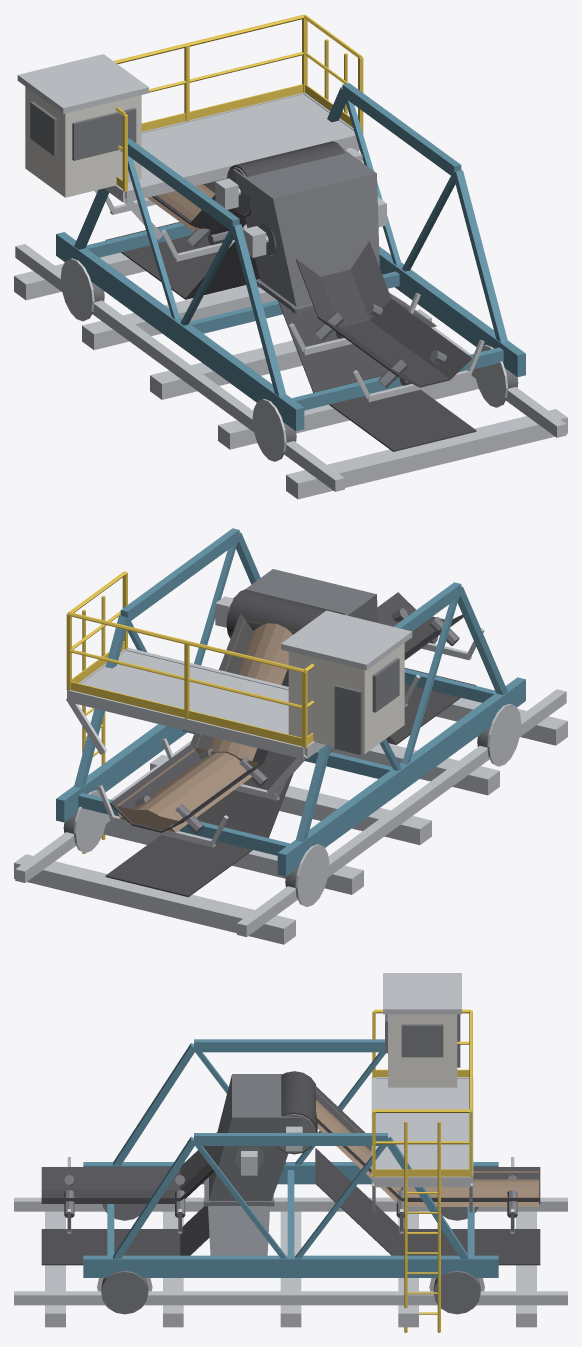
File: ore-processing-and-haulage-plant-tripper-car-f1988f04.glb
3 views of the same model, one above another, from view 1: azimuth 30°, elevation 25°; view 2: azimuth 150°, elevation 25°; view 3: azimuth 270°, elevation 25° (orthographic). The views are drawn at different scales.
Visible parts, largest first — view 1: tripper-car, chute, wheel-rl, wheel-fl, wheel-fr; view 2: tripper-car, chute, wheel-rl, wheel-fl, wheel-rr; view 3: tripper-car, chute, wheel-fr, wheel-rr, wheel-fl.
Boxes of the visible parts, bbox=[...] form: tripper-car: bbox=[14, 14, 567, 499]; chute: bbox=[233, 149, 436, 327]; wheel-rl: bbox=[60, 258, 94, 321]; wheel-fl: bbox=[252, 399, 286, 461]; wheel-fr: bbox=[474, 345, 508, 407]; tripper-car: bbox=[14, 528, 567, 944]; chute: bbox=[233, 569, 377, 622]; wheel-rl: bbox=[295, 844, 329, 906]; wheel-fl: bbox=[487, 703, 521, 766]; wheel-rr: bbox=[74, 790, 107, 852]; tripper-car: bbox=[14, 973, 567, 1332]; chute: bbox=[203, 1074, 301, 1255]; wheel-fr: bbox=[101, 1270, 148, 1314]; wheel-rr: bbox=[433, 1270, 480, 1314]; wheel-fl: bbox=[102, 1204, 146, 1220].
Bounding box in the file's own units: 4.47 × 3.73 × 8.
